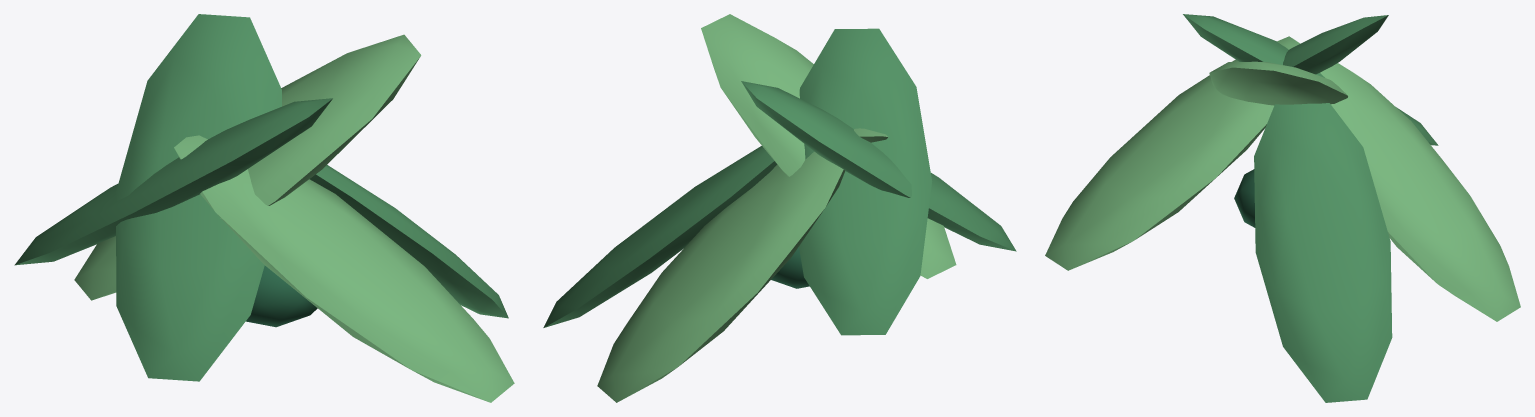
The model's file is prop_uw_broadleaf_b.glb.
The picture shows the model from 3 angles, left to right: view 1: azimuth 30°, elevation 25°; view 2: azimuth 150°, elevation 25°; view 3: azimuth 270°, elevation 25°; orthographic projection. The views are drawn at different scales.
Parts seen in each view (by area): view 1: blb_1, blb_2, blb_0, blb_5, blb_3, blb_base; view 2: blb_5, blb_4, blb_0, blb_3, blb_1, blb_base; view 3: blb_3, blb_2, blb_4, blb_0, blb_5, blb_1, blb_base.
Boxes of the visible parts, bbox=[...] form: blb_1: bbox=[116, 14, 281, 381]; blb_2: bbox=[174, 135, 514, 402]; blb_0: bbox=[74, 34, 421, 300]; blb_5: bbox=[14, 98, 332, 265]; blb_3: bbox=[309, 165, 508, 318]; blb_base: bbox=[246, 265, 317, 327]; blb_5: bbox=[799, 28, 932, 335]; blb_4: bbox=[597, 151, 844, 402]; blb_0: bbox=[701, 14, 956, 278]; blb_3: bbox=[543, 146, 777, 327]; blb_1: bbox=[741, 81, 1016, 251]; blb_base: bbox=[771, 247, 809, 288]; blb_3: bbox=[1254, 103, 1392, 402]; blb_2: bbox=[1045, 36, 1300, 270]; blb_4: bbox=[1320, 63, 1520, 321]; blb_0: bbox=[1209, 61, 1347, 105]; blb_5: bbox=[1183, 14, 1438, 145]; blb_1: bbox=[1283, 15, 1388, 74]; blb_base: bbox=[1234, 169, 1255, 227].
Bounding box in the file's own units: 0.4741 × 0.3467 × 0.5331.
